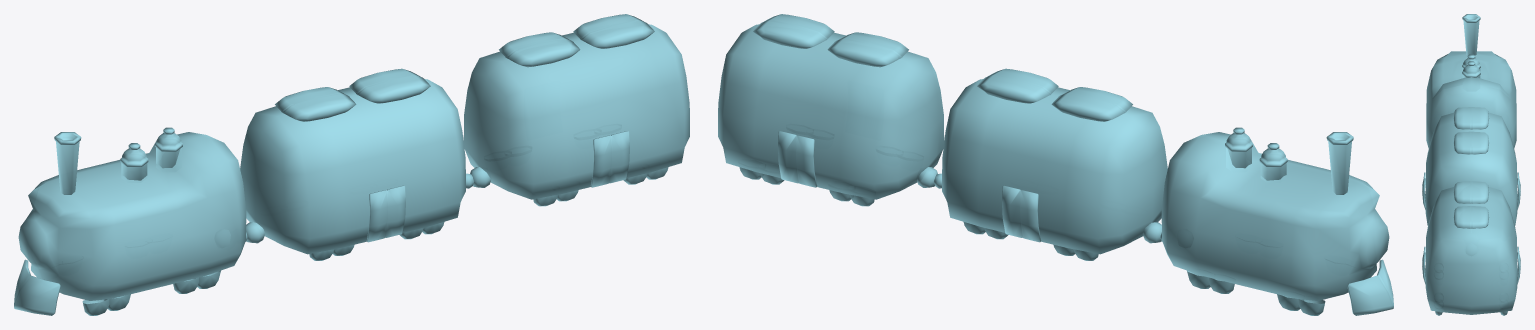
File: Bubble Train.fbx
3 views of the same model, side by side, from view 1: azimuth 30°, elevation 25°; view 2: azimuth 150°, elevation 25°; view 3: azimuth 270°, elevation 25° (orthographic). The views are drawn at different scales.
Parts seen in each view (by area): view 1: Car.001, Car, Front Car, Cylinder, Door, Door.001, Coupling; view 2: Car.001, Car, Front Car, Cylinder, Door, Door.001, Coupling; view 3: Car.001, Car, Front Car, Cylinder, Door.001, Door.
Boxes of the visible parts, bbox=[...] form: Car.001: bbox=[463, 14, 689, 206]; Car: bbox=[240, 68, 465, 260]; Front Car: bbox=[14, 132, 246, 315]; Cylinder: bbox=[54, 127, 182, 194]; Door: bbox=[366, 185, 405, 242]; Door.001: bbox=[590, 131, 629, 187]; Coupling: bbox=[245, 167, 490, 243]; Car.001: bbox=[718, 14, 944, 206]; Car: bbox=[942, 68, 1167, 260]; Front Car: bbox=[1161, 132, 1393, 315]; Cylinder: bbox=[1225, 127, 1353, 194]; Door: bbox=[1002, 185, 1041, 242]; Door.001: bbox=[778, 131, 817, 187]; Coupling: bbox=[917, 167, 1162, 243]; Car.001: bbox=[1425, 181, 1517, 315]; Car: bbox=[1425, 107, 1517, 225]; Front Car: bbox=[1426, 51, 1516, 148]; Cylinder: bbox=[1462, 14, 1480, 77]; Door.001: bbox=[1422, 246, 1520, 284]; Door: bbox=[1422, 172, 1520, 209].
Bounding box in the file's own units: 703 × 869 × 3694.
